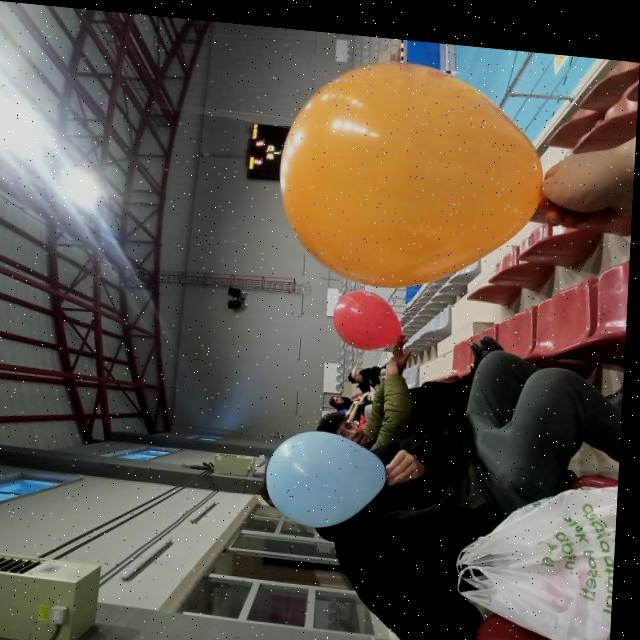balloon: (275, 44, 550, 293), (272, 415, 391, 528), (335, 280, 413, 346)
